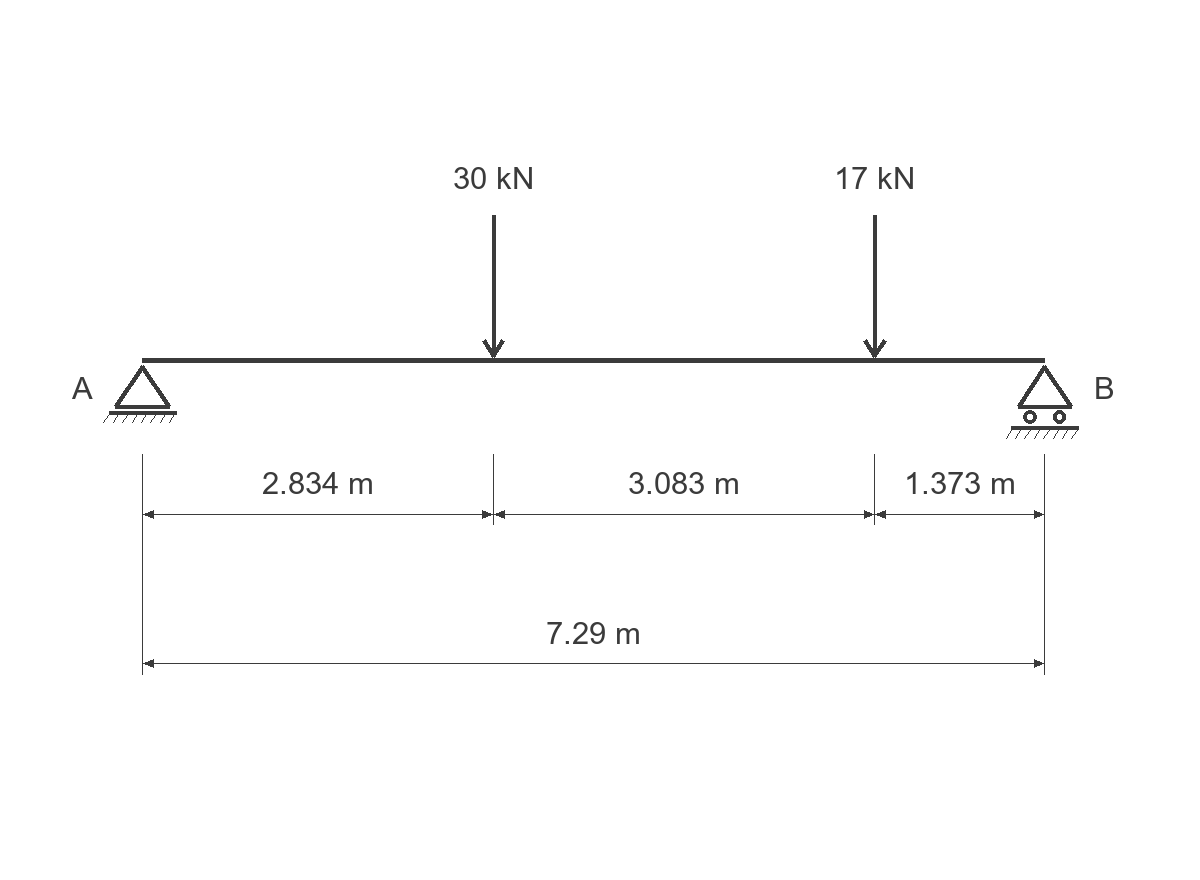pin_support: (103, 365, 177, 423)
point_load: (863, 215, 887, 358), (482, 215, 505, 358)
roller_support: (1006, 365, 1079, 439)
